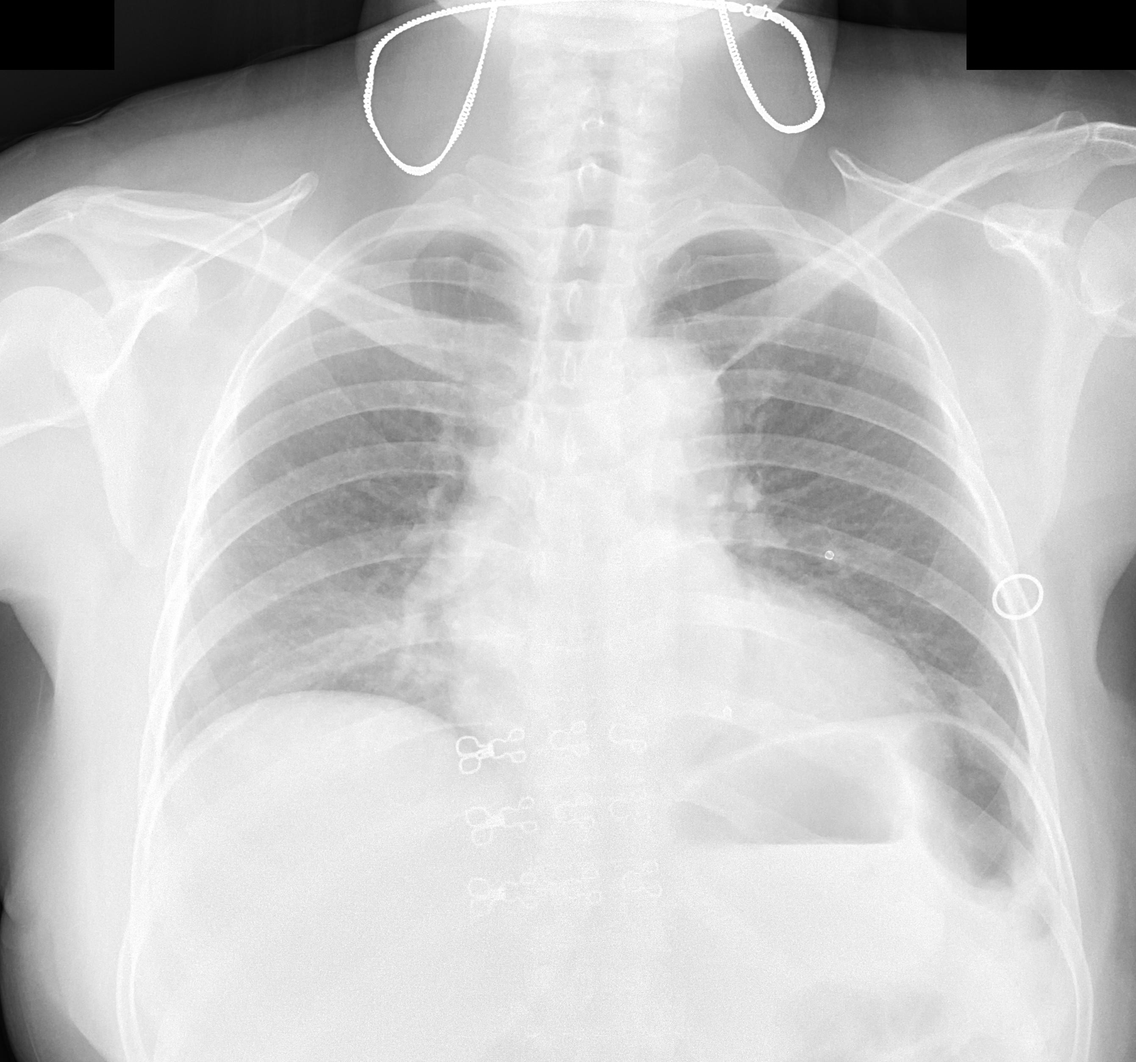Aortic enlargement: (593, 340, 725, 481)
Cardiomegaly: (429, 630, 930, 748)
Pleural thickening: (323, 229, 405, 278)
